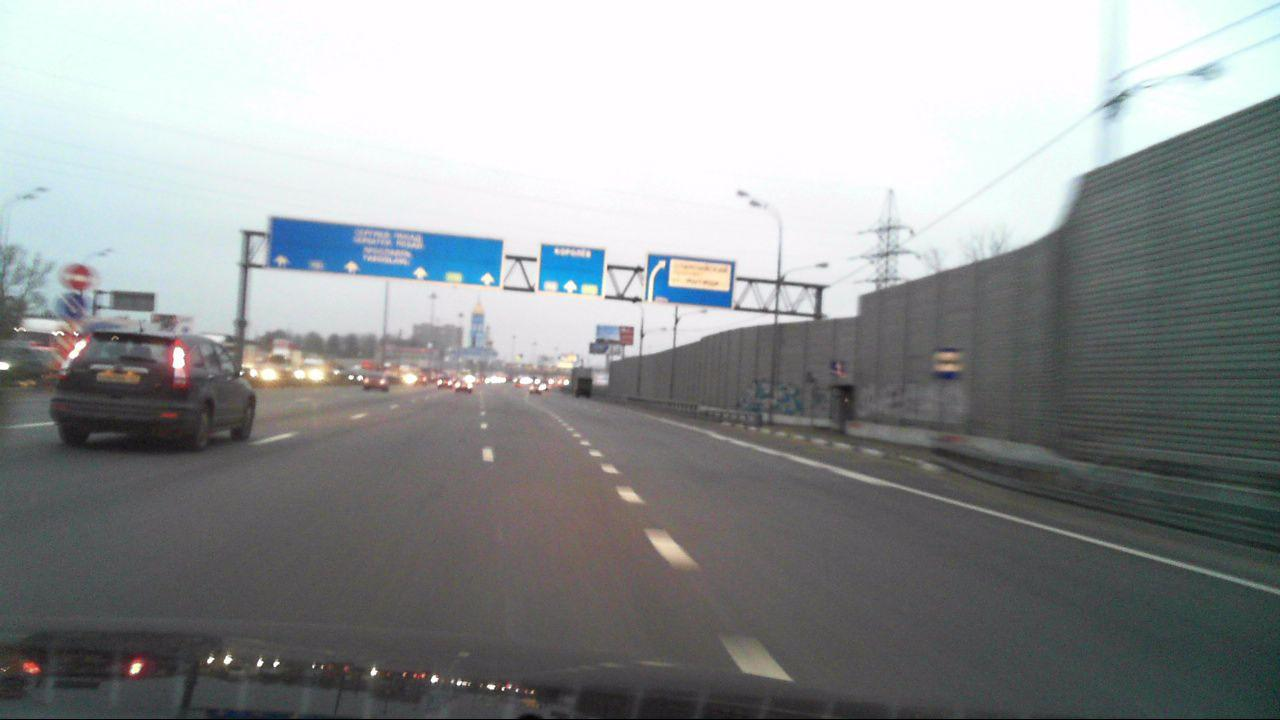3_1: (64, 262, 91, 289)
4_2_1: (59, 291, 84, 317)
5_16: (933, 344, 967, 384)
8_22_1: (52, 330, 72, 369)
